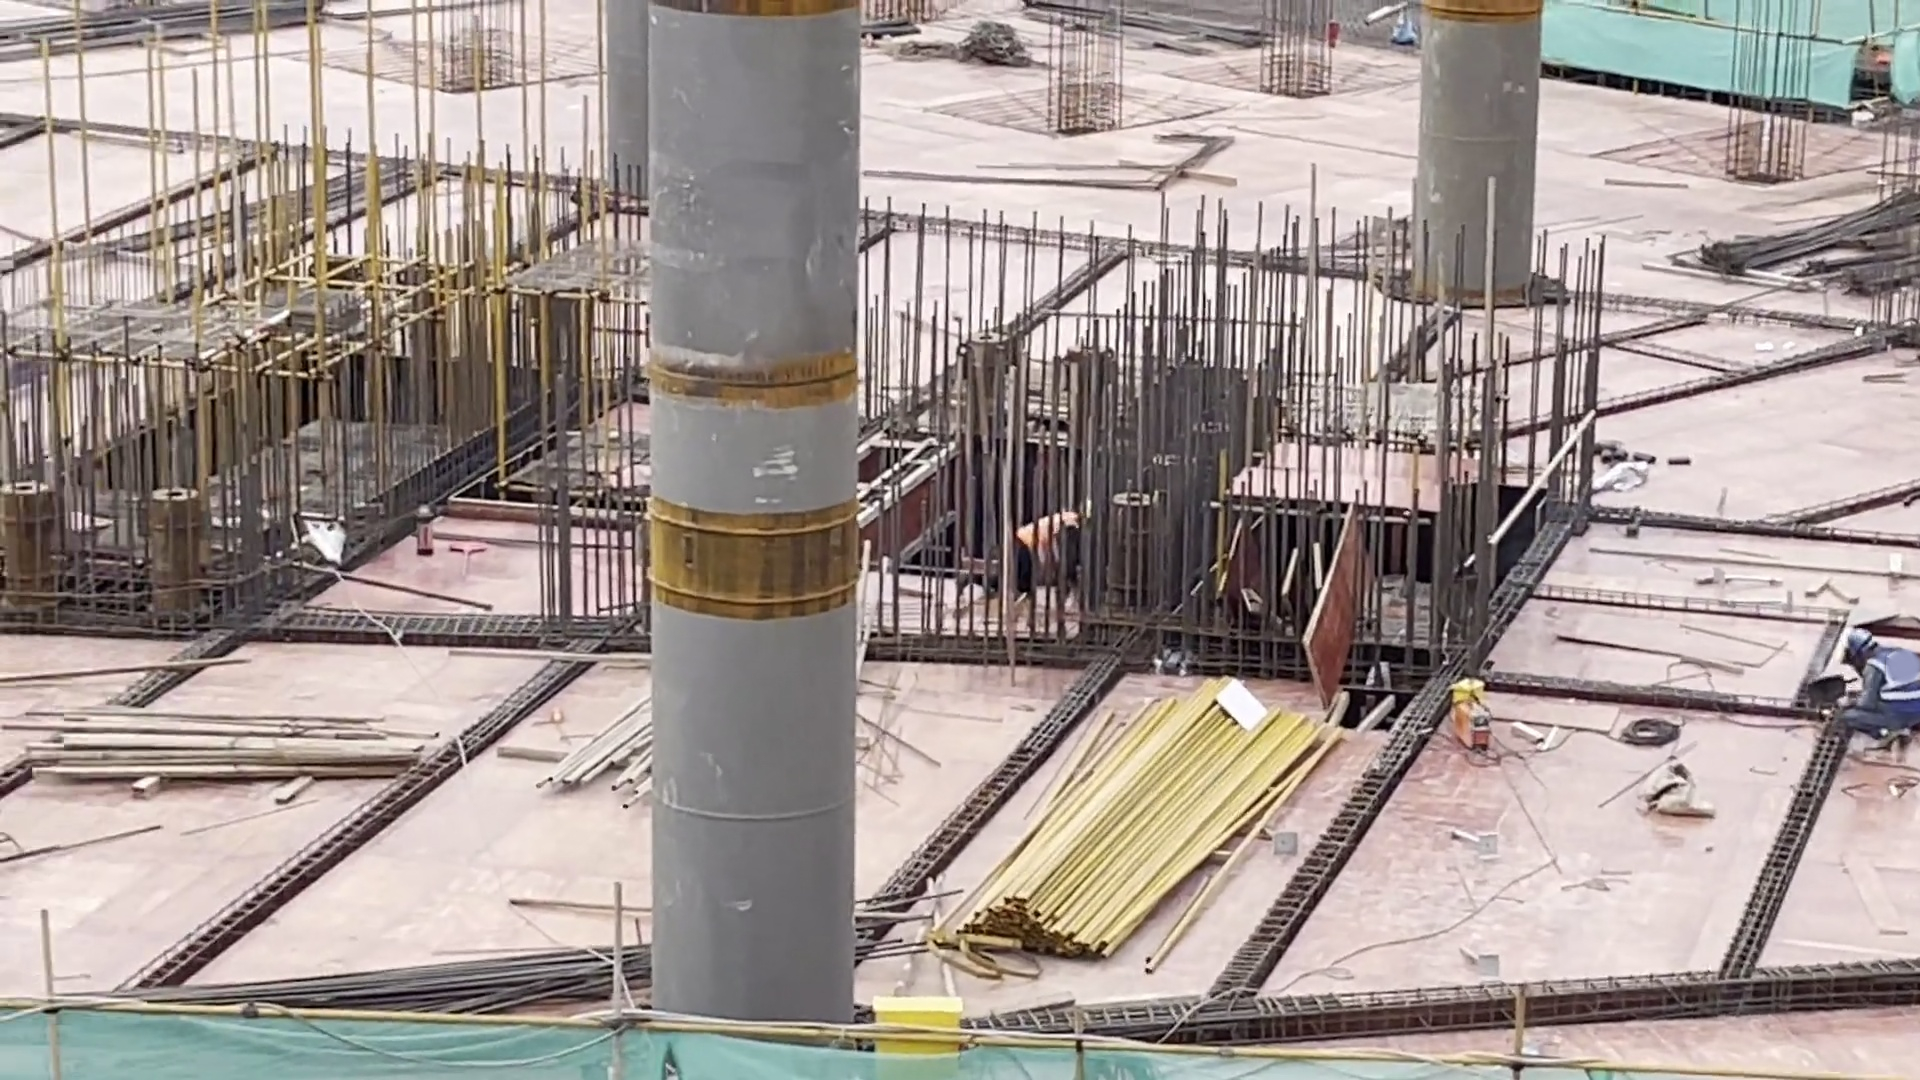helmet: (1847, 626, 1871, 656)
person: (1838, 632, 1920, 755), (1002, 505, 1100, 594)
vest: (1860, 643, 1920, 724)
